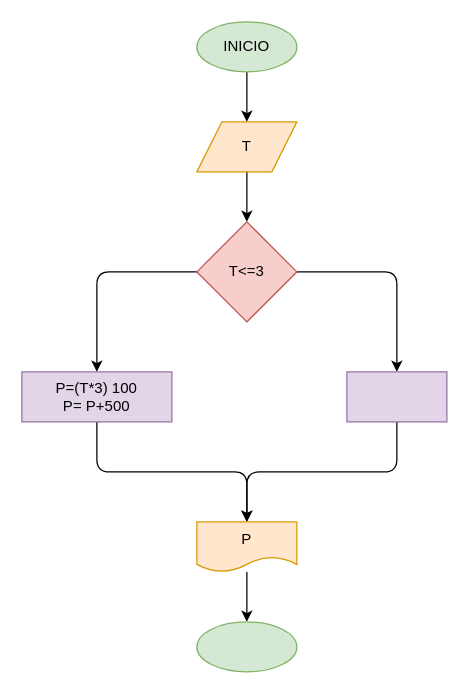
The diagram is 469 pixels wide and 694 high, and some of its shapes have lost their labels. Here are the shapes that lost their labels. From the top down, the centre of each, then its label:
At point 396,396: "P=500".
At point 246,646: "FIN".
